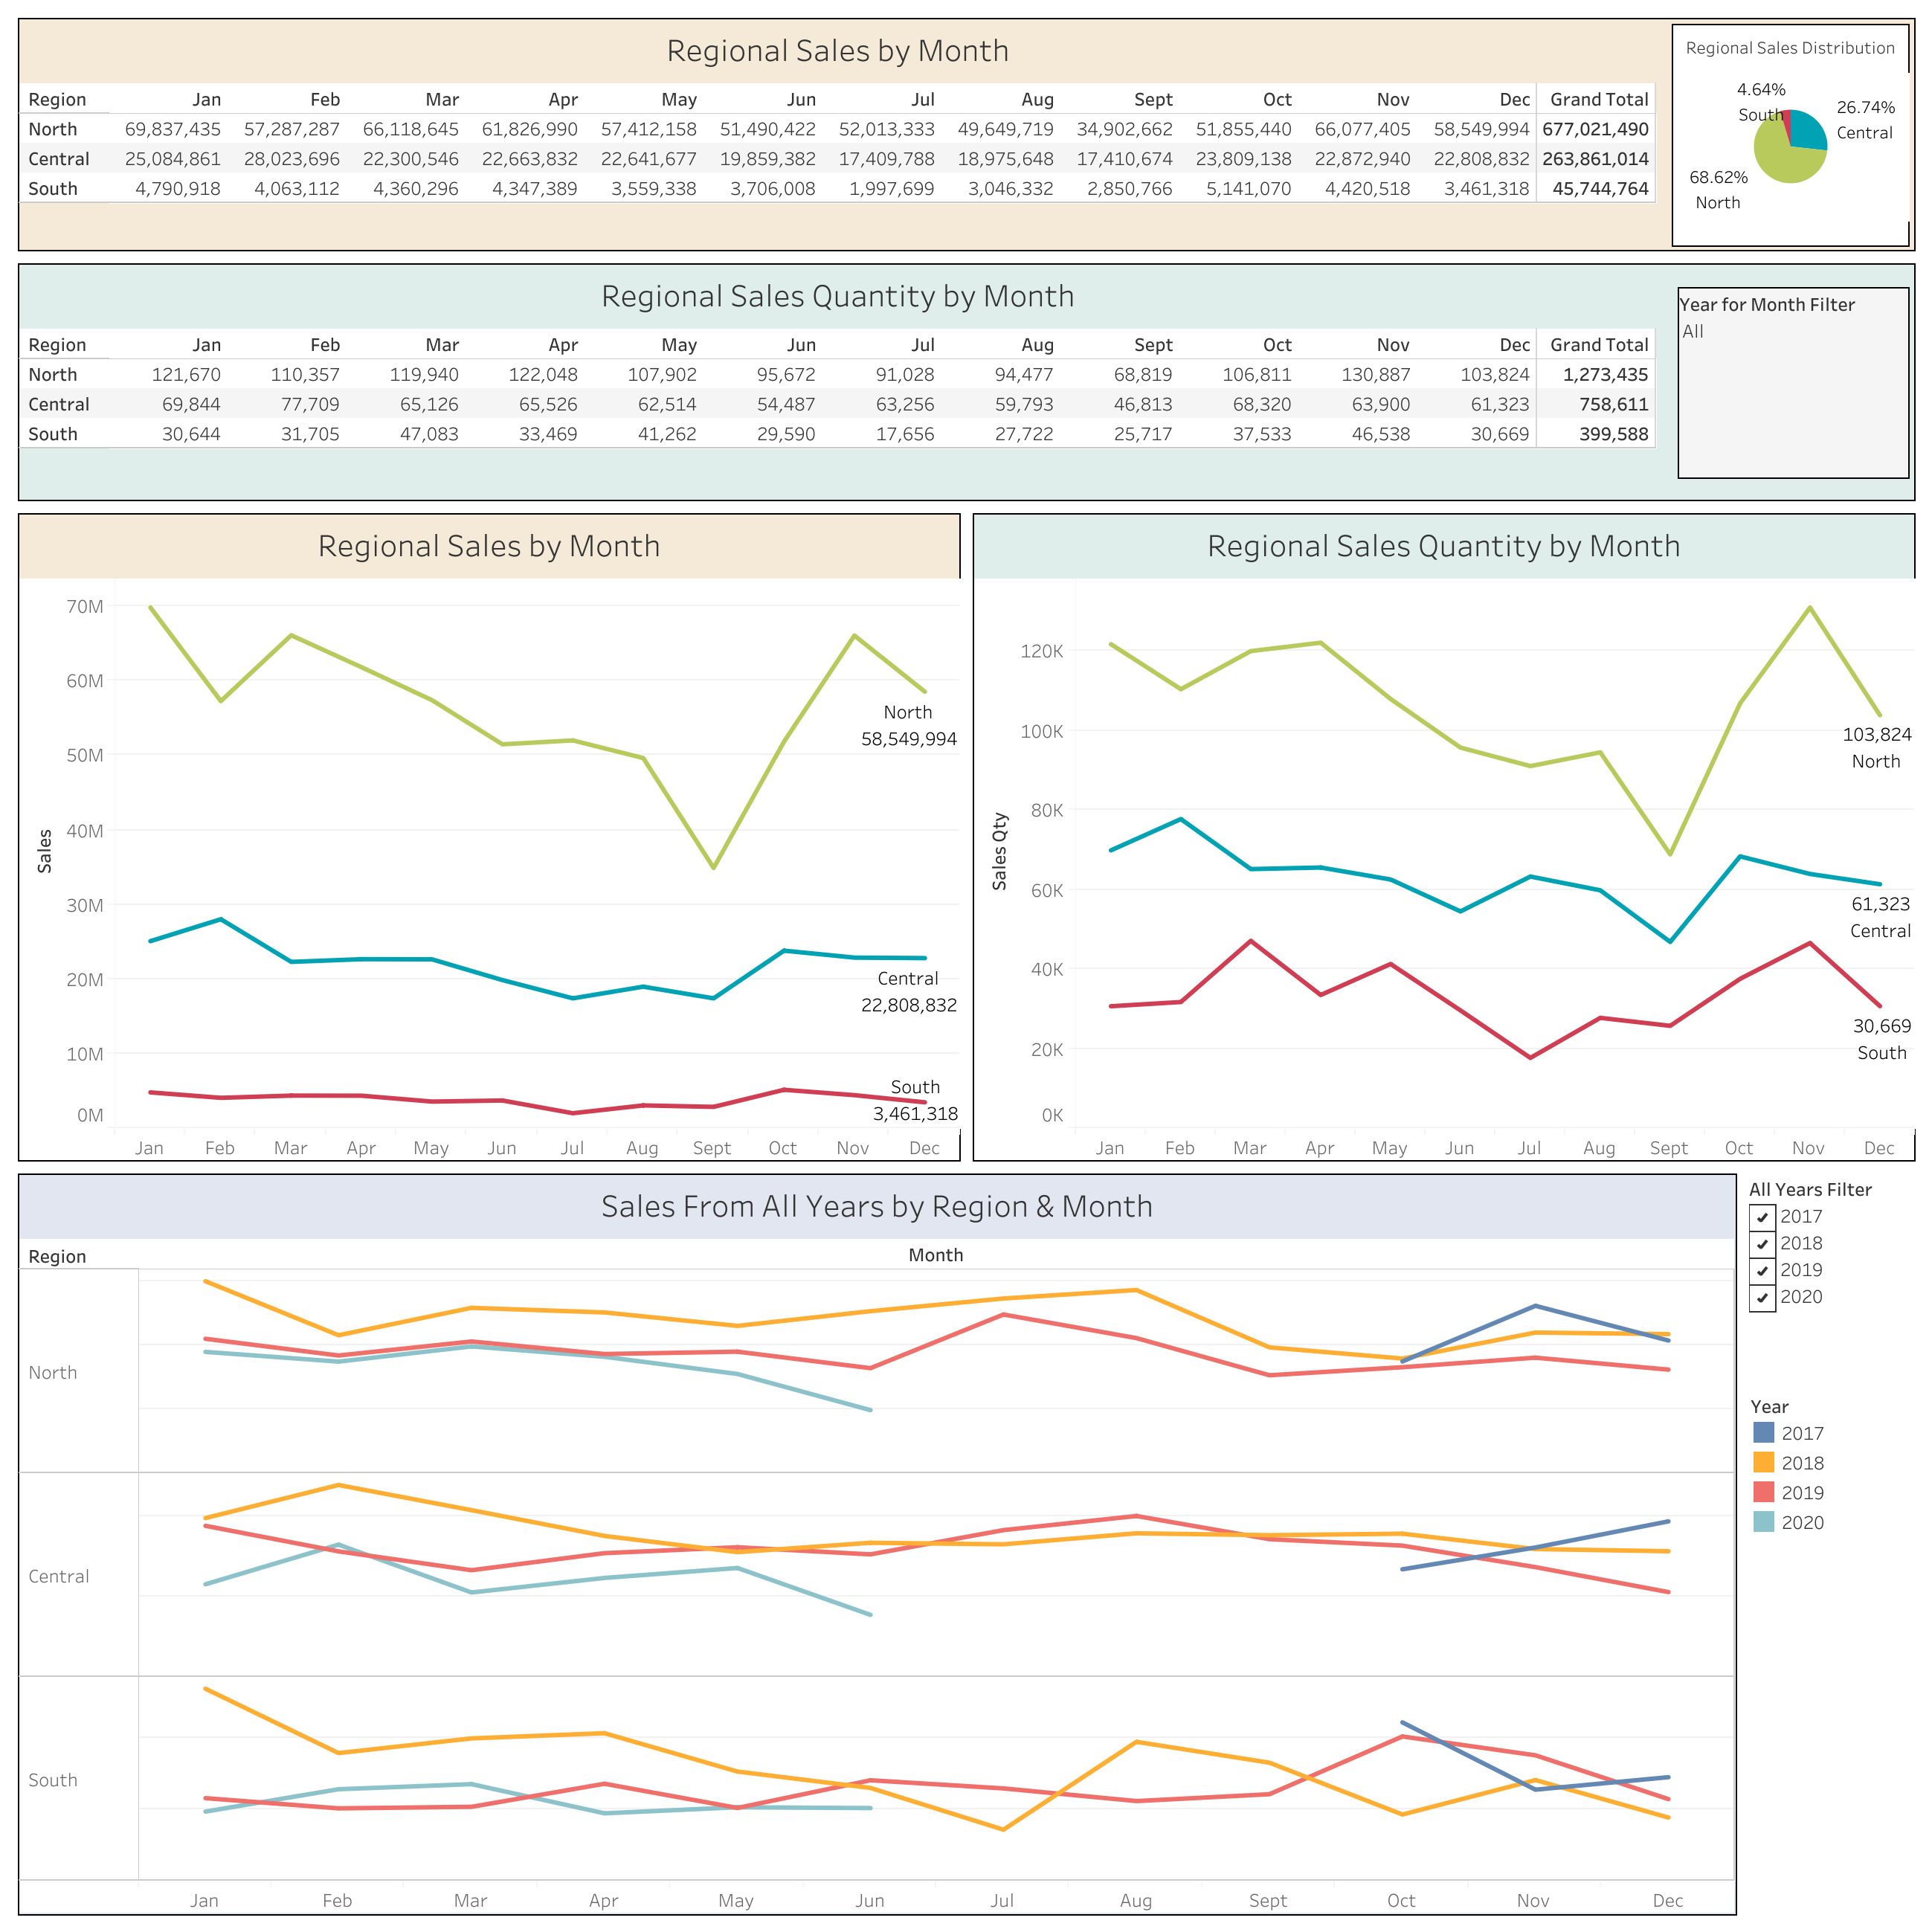

What the dashboard file says about the page in this screenshot:
{"tool":"tableau","page":{"name":"Atliq Regional","canvas":[1400,1200],"ordinal":2},"visuals":[{"type":"dashboard-object","box":[5,5,169,100]},{"type":"text","box":[194,6,78,22]},{"type":"text","box":[194,40,1186,34]},{"type":"worksheet","title":"Regional Sales Table","mark":"Automatic","rows":["zone"],"cols":["Order Date (copy)_3717862260610498560"],"box":[194,74,1186,116]},{"type":"dashboard-object","box":[5,105,169,52]},{"type":"dashboard-object","box":[5,157,169,52]},{"type":"worksheet","title":"Regional Sales","mark":"Automatic","rows":["Calculation_1767592511031132172"],"cols":["Order Date (copy)_3717862260610498560"],"box":[194,190,1186,183.3]},{"type":"blank","box":[5,209,169,50]},{"type":"parameter","param":"[Parameters].[Parameter 3]","box":[5,259,169,52]},{"type":"parameter","param":"[Parameters].[Parameter 2]","box":[5,311,169,52]},{"type":"parameter","param":"[Parameters].[Parameter 1]","box":[5,363,169,83]},{"type":"blank","box":[194,373.3,1186,15]},{"type":"text","box":[194,388.3,1186,34]},{"type":"worksheet","title":"Regional Sales Qty Table","mark":"Automatic","rows":["zone"],"cols":["Order Date (copy)_3717862260610498560"],"box":[194,422.3,1186,108]},{"type":"blank","box":[5,446,169,51.6]},{"type":"worksheet","title":"Sales Distribution","mark":"Pie","box":[5,497.6,169,226]},{"type":"worksheet","title":"Regional Sales Quantity","mark":"Automatic","rows":["YTD Sales (Current Year) (copy)_2143009762139398149"],"cols":["Order Date (copy)_3717862260610498560"],"box":[194,530.3,1186,183.3]},{"type":"worksheet","title":"YTD Running Total Comparison","mark":"Automatic","rows":["sales"],"cols":["Calculation_1767592511008559105"],"box":[20,733.6,577,456.4]},{"type":"blank","box":[597,733.6,20,456.4]},{"type":"worksheet","title":"All Years Sales by Region","mark":"Automatic","rows":["zone","sales"],"cols":["Calculation_1767592511008559105"],"box":[617,733.6,763,456.4]},{"type":"legend","title":"YTD Running Total Comparison","param":"[federated.01yvstu1gjibdw19i0w2i0t39vxu].[yr:order_date:ok]","box":[112,800,108.9,59]}]}

Visuals, with their boxes on the page's 1400x1200 design canvas (x1, y1, x2, y2). These are canvas units, not pixel positions in the 1932x1932 screenshot, which may show the page scaled, cropped or inside an application window:
dashboard-object: x1=5, y1=5, x2=174, y2=105
text: x1=194, y1=6, x2=272, y2=28
text: x1=194, y1=40, x2=1380, y2=74
"Regional Sales Table" worksheet: x1=194, y1=74, x2=1380, y2=190
dashboard-object: x1=5, y1=105, x2=174, y2=157
dashboard-object: x1=5, y1=157, x2=174, y2=209
"Regional Sales" worksheet: x1=194, y1=190, x2=1380, y2=373
blank: x1=5, y1=209, x2=174, y2=259
parameter: x1=5, y1=259, x2=174, y2=311
parameter: x1=5, y1=311, x2=174, y2=363
parameter: x1=5, y1=363, x2=174, y2=446
blank: x1=194, y1=373, x2=1380, y2=388
text: x1=194, y1=388, x2=1380, y2=422
"Regional Sales Qty Table" worksheet: x1=194, y1=422, x2=1380, y2=530
blank: x1=5, y1=446, x2=174, y2=498
"Sales Distribution" worksheet (Pie marks): x1=5, y1=498, x2=174, y2=724
"Regional Sales Quantity" worksheet: x1=194, y1=530, x2=1380, y2=714
"YTD Running Total Comparison" worksheet: x1=20, y1=734, x2=597, y2=1190
blank: x1=597, y1=734, x2=617, y2=1190
"All Years Sales by Region" worksheet: x1=617, y1=734, x2=1380, y2=1190
"YTD Running Total Comparison" legend: x1=112, y1=800, x2=221, y2=859
